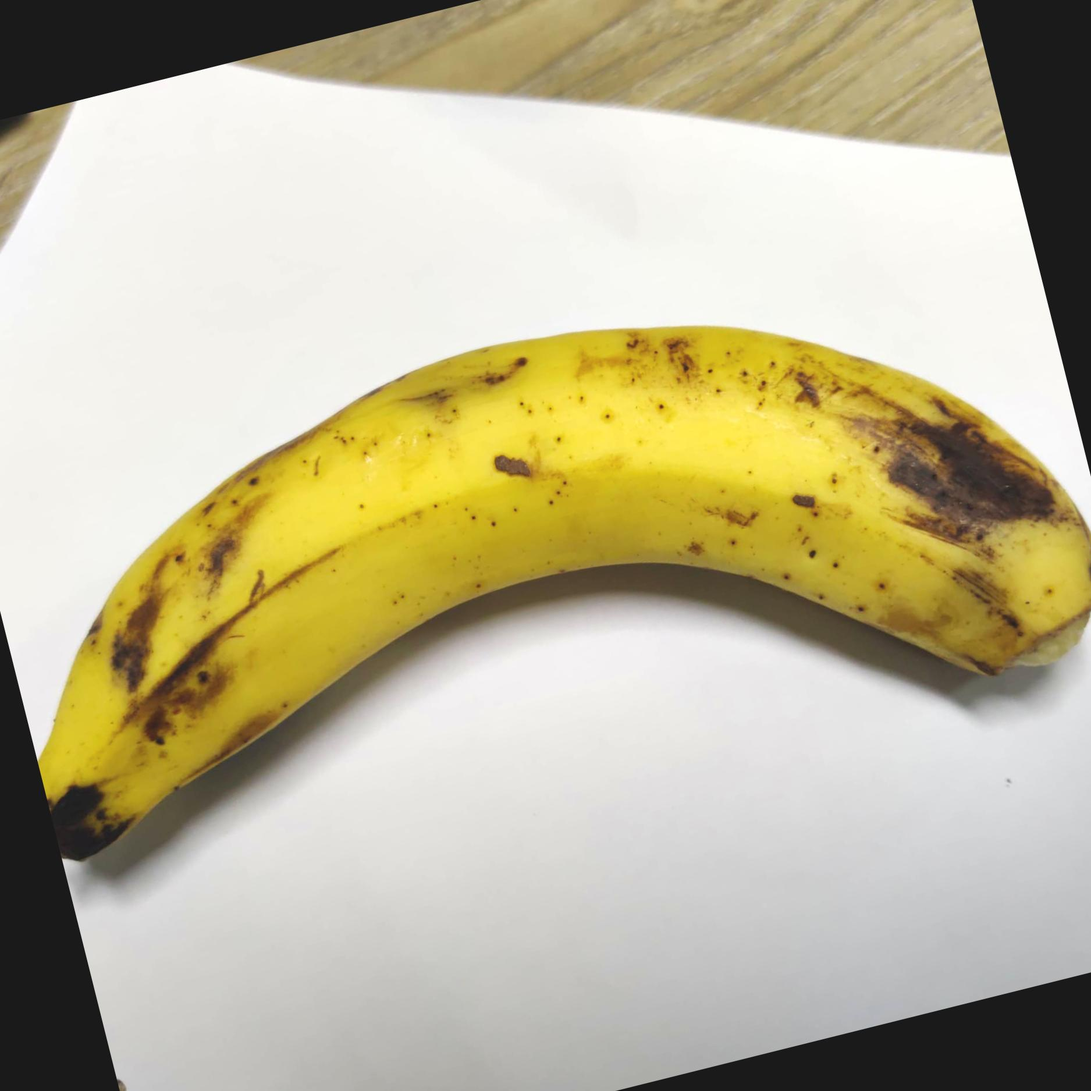Banana Ripe: (15, 207, 1091, 958)
